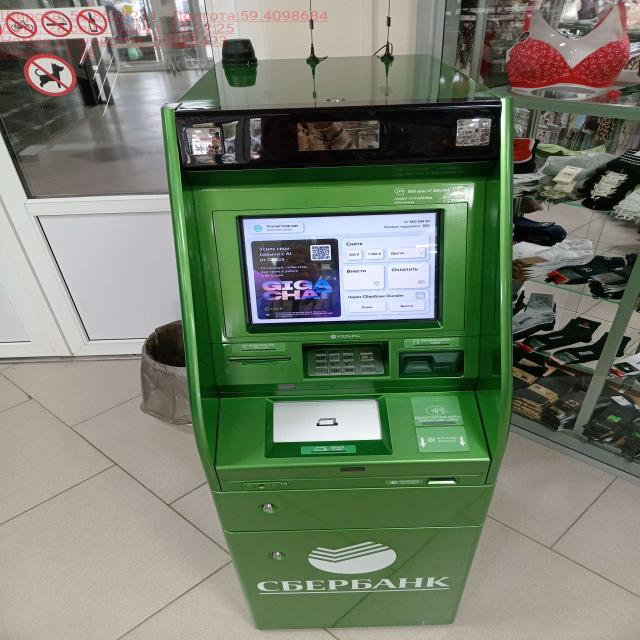bank: (169, 57, 513, 626)
